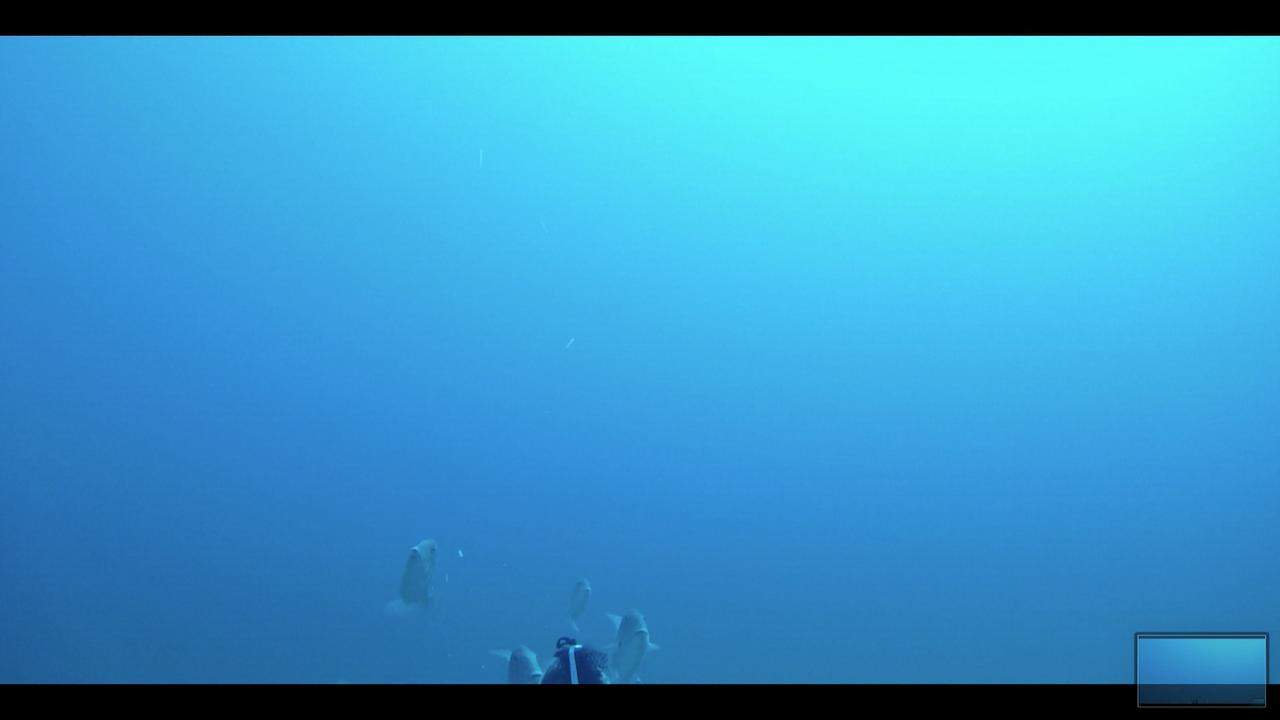balistes: (382, 529, 445, 620), (601, 601, 659, 680), (560, 571, 593, 636)
